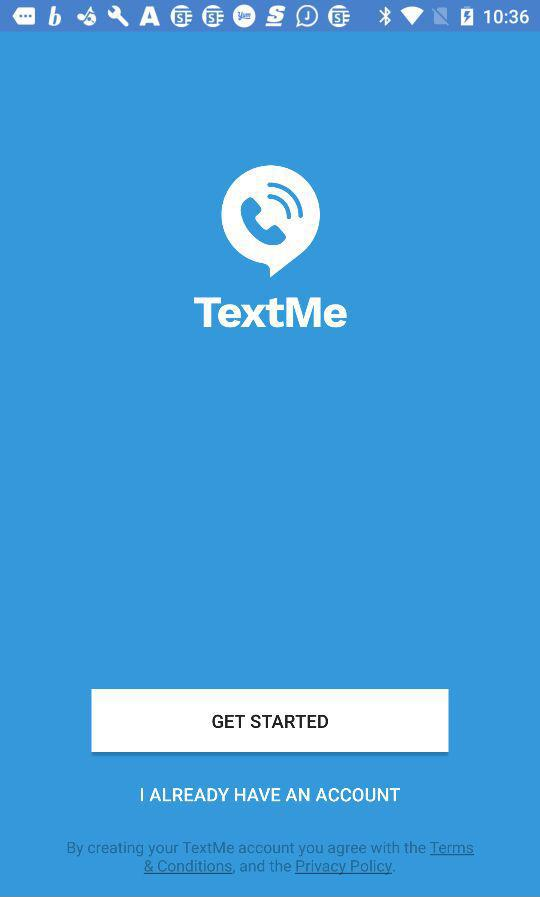Image: (220, 165, 321, 280)
Text: (68, 841, 475, 877), (192, 295, 348, 330), (140, 787, 401, 803)
TextButton: (91, 688, 450, 753)
UpperTaskBar: (1, 1, 540, 33)
